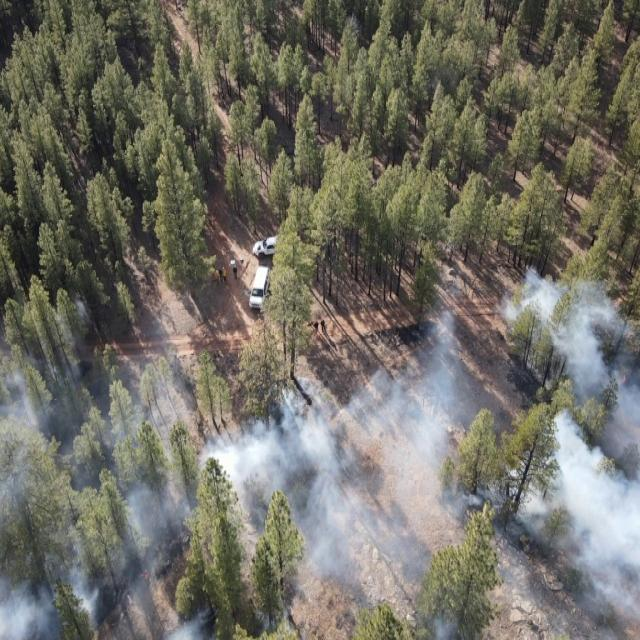fire: (135, 567, 155, 584), (616, 369, 630, 385)
smoke: (0, 377, 640, 640), (416, 270, 639, 378), (0, 302, 96, 378)
